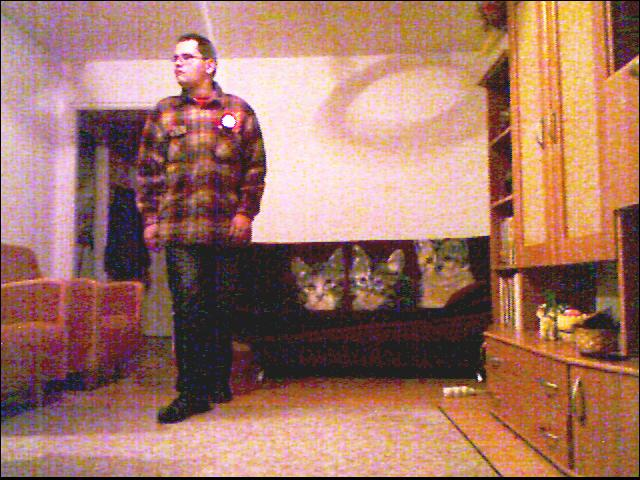walking: (122, 21, 268, 425)
